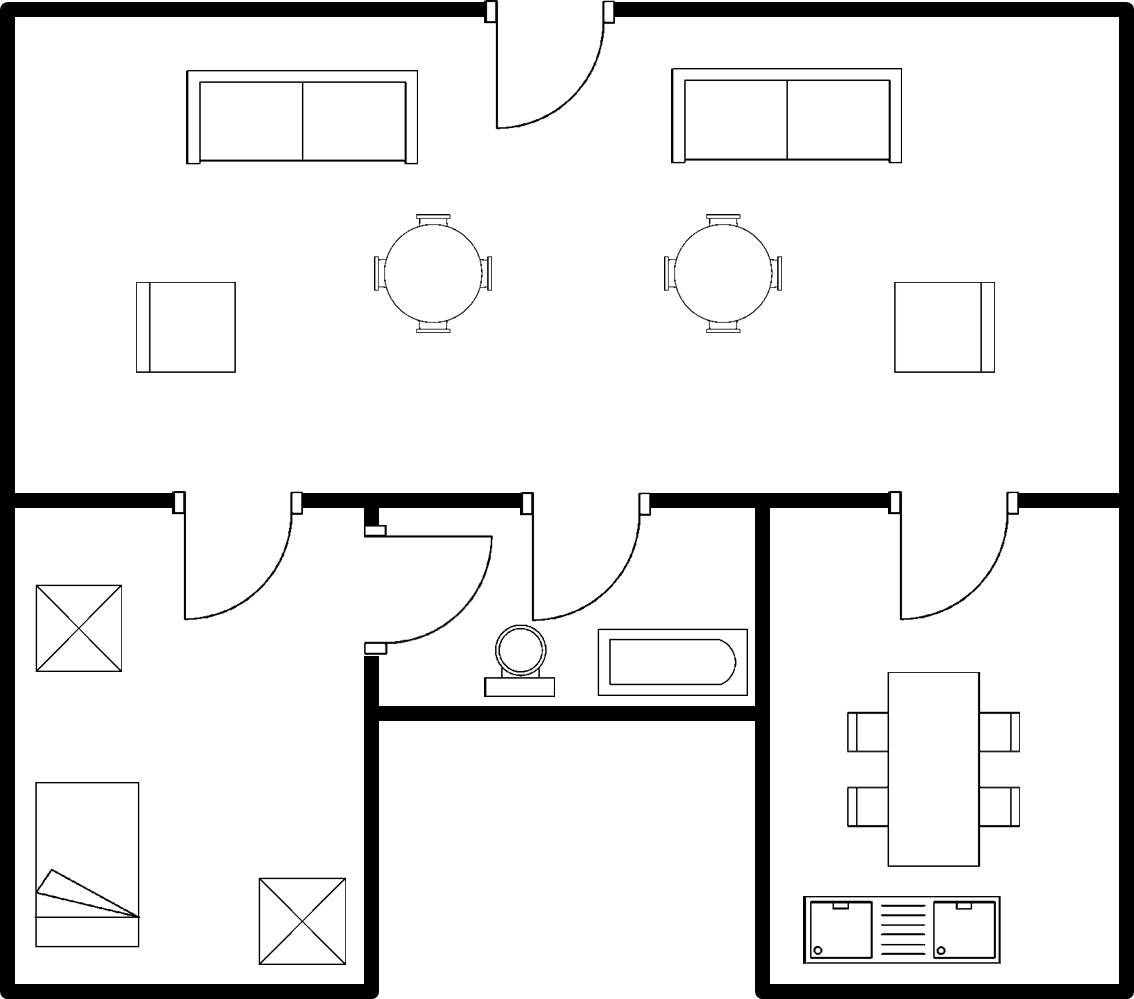bed: (29, 777, 148, 955)
coffee_table: (248, 872, 354, 974), (30, 579, 129, 680)
dining_table: (839, 664, 1031, 873)
large_sink: (480, 618, 561, 705)
large_sofa: (181, 59, 431, 174), (665, 61, 909, 173)
round_table: (368, 204, 502, 340), (658, 205, 790, 342)
small_sofa: (889, 274, 1004, 381), (126, 277, 242, 381)
tub: (591, 620, 751, 703)
twin_sink: (795, 888, 1009, 971)
